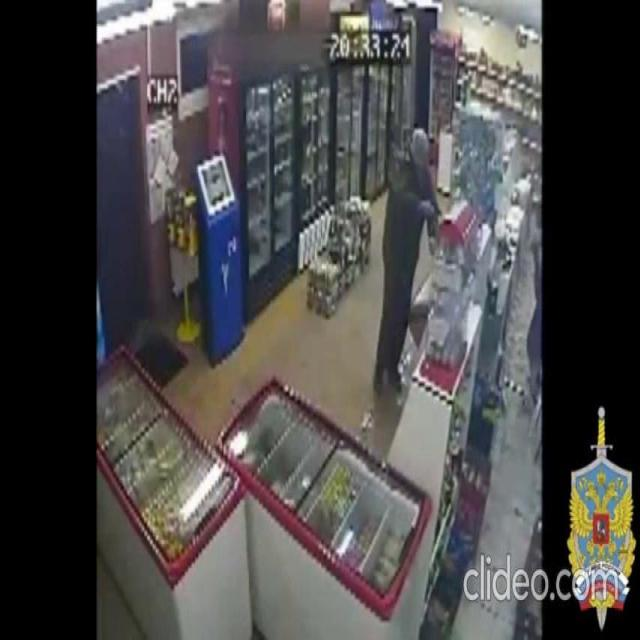pistol: (428, 194, 444, 219)
